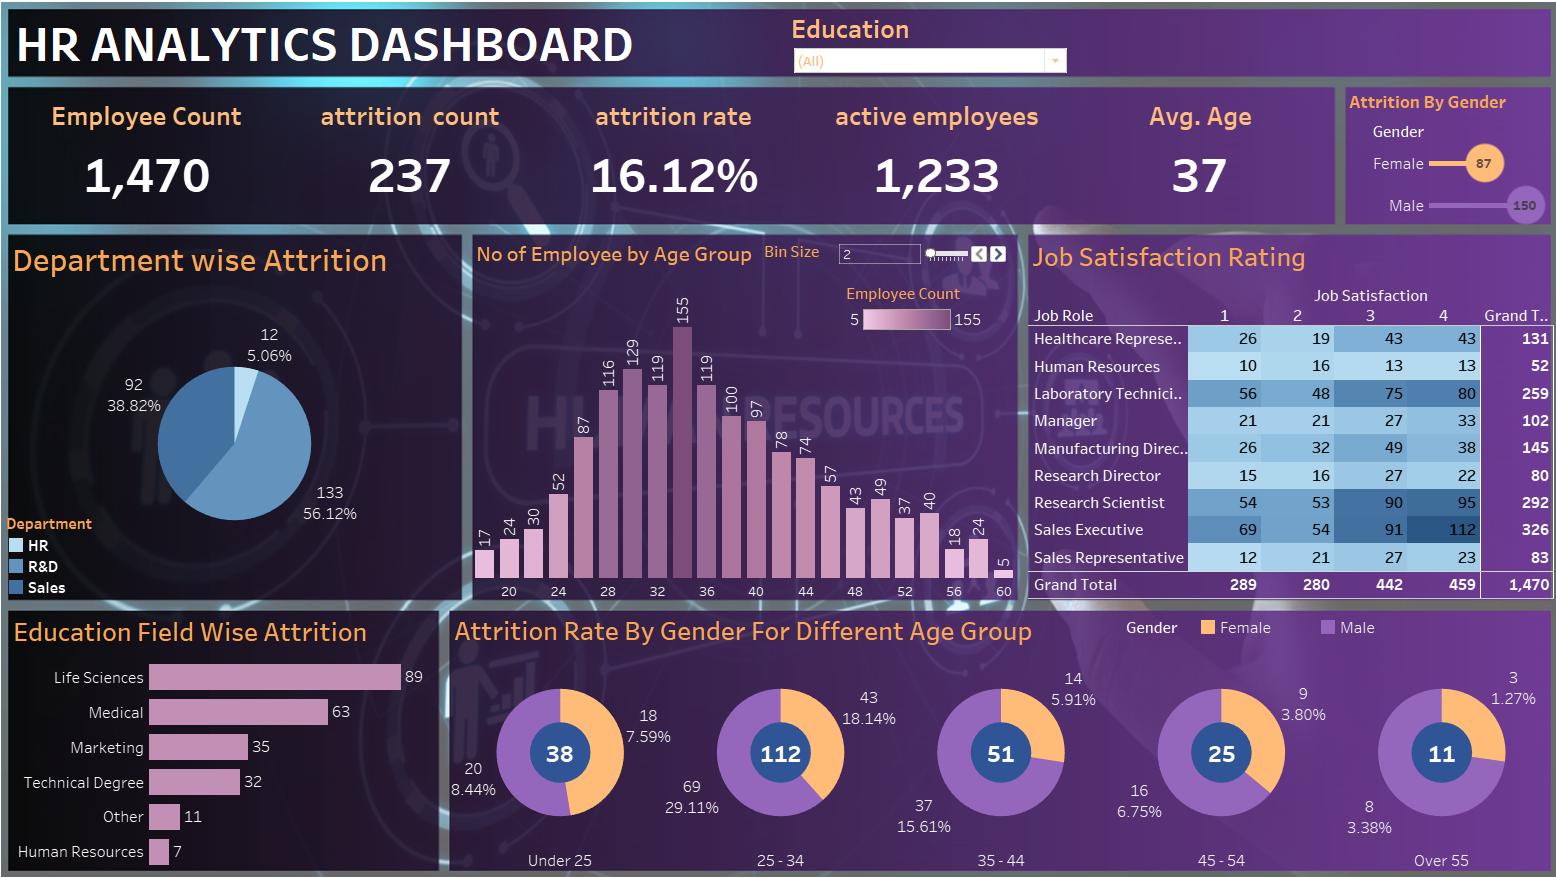

What the dashboard file says about the page in this screenshot:
{"tool":"tableau","page":{"name":"Dashboard 1","canvas":[1580,900],"ordinal":0},"visuals":[{"type":"image","param":"C:/Users/Piyush pal/Desktop/HR background.png","box":[8,8,1564,884]},{"type":"filter","title":"KPI","param":"[federated.00plynk1vc86jp18dk2am1v1vbr8].[none:Education:nk]","box":[802,21,279,64]},{"type":"text","box":[23,24,717,56]},{"type":"worksheet","title":"Attrition by Gender","mark":"Automatic","rows":["Gender"],"cols":["Calculation_704813382838878208","Calculation_704813382838878208"],"box":[1356,96,205,140]},{"type":"worksheet","title":"KPI","mark":"Automatic","box":[26,105,1317,116]},{"type":"worksheet","title":"Department wise Attrition","mark":"Pie","box":[19,244,453,363]},{"type":"worksheet","title":"No of Employee by Age Group","mark":"Automatic","rows":["Employee Count"],"cols":["Age (bin)"],"box":[483,245,545,366]},{"type":"worksheet","title":"Job Satisfaction Rating ","mark":"Square","rows":["Job Role"],"cols":["Job Satisfaction"],"box":[1039,245,526,364]},{"type":"parameter","param":"[Parameters].[Age Parameter]","box":[775,251,245,34]},{"type":"legend","title":"No of Employee by Age Group","param":"[federated.00plynk1vc86jp18dk2am1v1vbr8].[sum:Employee Count:qk]","box":[857,293,140,67]},{"type":"legend","title":"Department wise Attrition","param":"[federated.00plynk1vc86jp18dk2am1v1vbr8].[none:Department:nk]","box":[17,523,140,85]},{"type":"worksheet","title":"Attrition Rate By Gender For Different Age Group","mark":"Pie","rows":["Calculation_591941917485109249","Calculation_591941917485109249"],"cols":["CF_age band"],"box":[461,619,1102,262]},{"type":"worksheet","title":"Education Field Wise Attrition","mark":"Automatic","rows":["Education Field"],"cols":["Calculation_704813382838878208"],"box":[20,620,432,259]},{"type":"legend","title":"Attrition Rate By Gender For Different Age Group","param":"[federated.00plynk1vc86jp18dk2am1v1vbr8].[none:Gender:nk]","box":[1137,627,378,32]}]}

Visuals, with their boxes in screenshot pixels (x1, y1, x2, y2), scaled from the page's 1580x900 canvas onto the 1556x878 screenshot:
image: pyautogui.locateOnScreen(8, 8, 1548, 870)
"KPI" filter: pyautogui.locateOnScreen(790, 20, 1065, 83)
text: pyautogui.locateOnScreen(23, 23, 729, 78)
"Attrition by Gender" worksheet: pyautogui.locateOnScreen(1335, 94, 1537, 230)
"KPI" worksheet: pyautogui.locateOnScreen(26, 102, 1323, 216)
"Department wise Attrition" worksheet (Pie marks): pyautogui.locateOnScreen(19, 238, 465, 592)
"No of Employee by Age Group" worksheet: pyautogui.locateOnScreen(476, 239, 1012, 596)
"Job Satisfaction Rating " worksheet (Square marks): pyautogui.locateOnScreen(1023, 239, 1541, 594)
parameter: pyautogui.locateOnScreen(763, 245, 1005, 278)
"No of Employee by Age Group" legend: pyautogui.locateOnScreen(844, 286, 982, 351)
"Department wise Attrition" legend: pyautogui.locateOnScreen(17, 510, 155, 593)
"Attrition Rate By Gender For Different Age Group" worksheet (Pie marks): pyautogui.locateOnScreen(454, 604, 1539, 859)
"Education Field Wise Attrition" worksheet: pyautogui.locateOnScreen(20, 605, 445, 858)
"Attrition Rate By Gender For Different Age Group" legend: pyautogui.locateOnScreen(1120, 612, 1492, 643)
